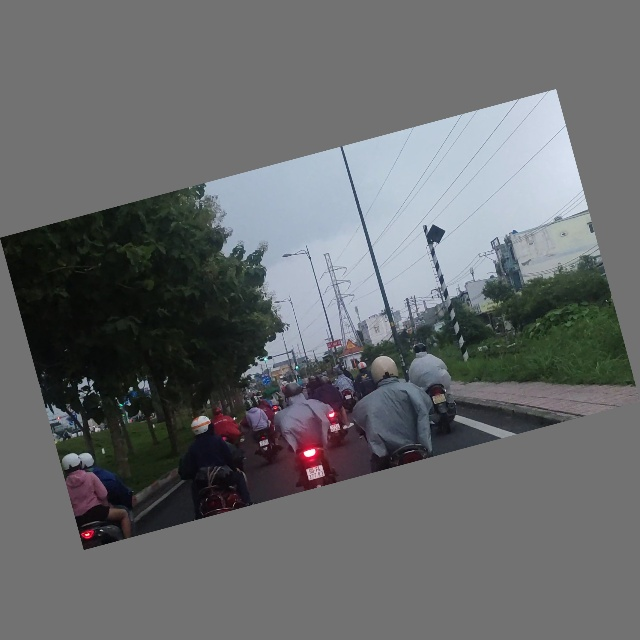W.210: (343, 338, 357, 351)
